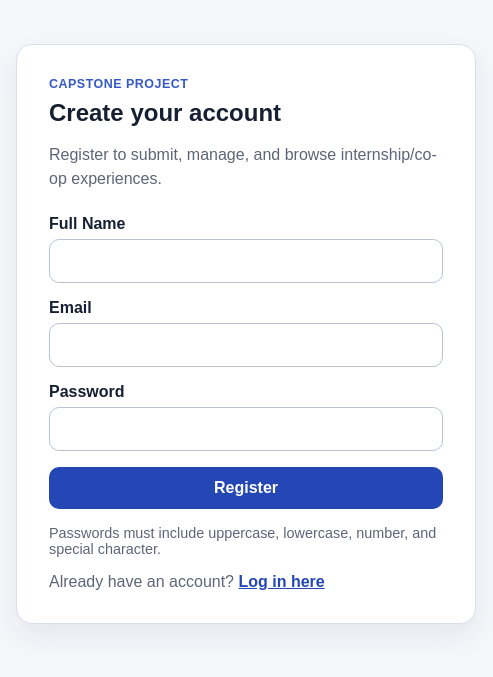
RegisterPage › shows registration errors inline instead of an alert
Type "Student One" into the field labelled "Full Name" at point(246, 261), box [49, 239, 443, 283]
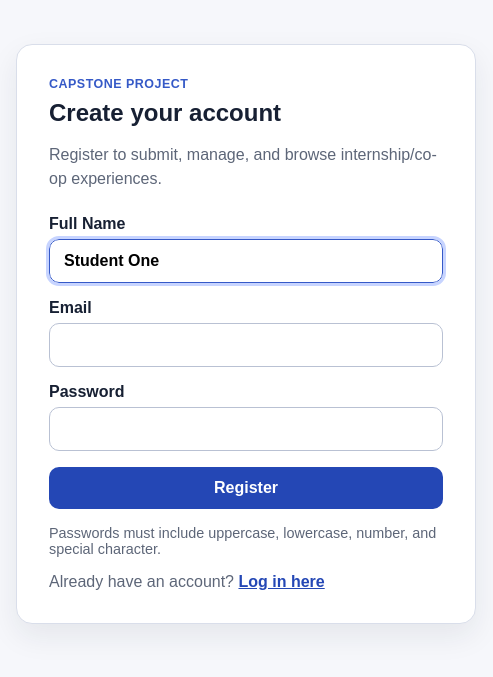
Type "student1@test.com" into the field labelled "Email" at point(246, 345), box [49, 323, 443, 367]
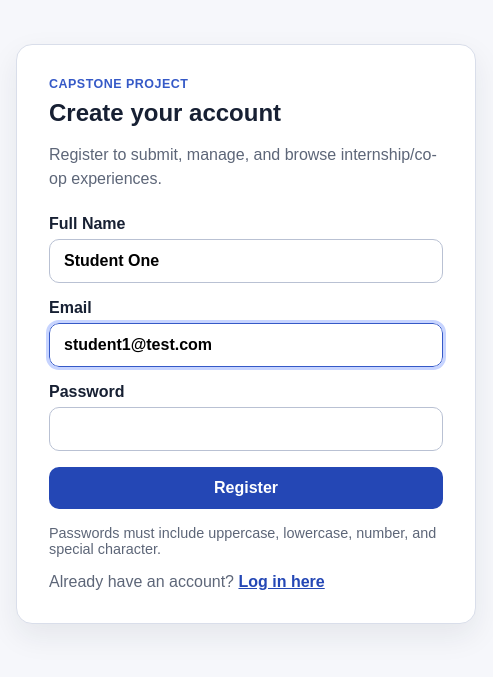
Type "P@ssw0rd123" into the password field labelled "Password" at point(246, 429), box [49, 407, 443, 451]
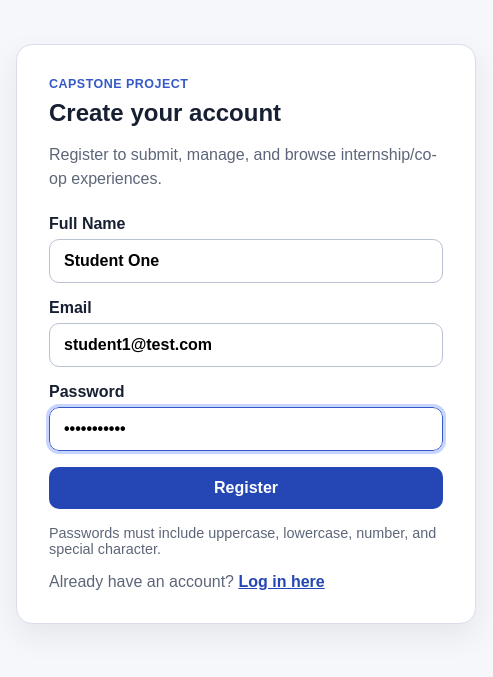
Click the button "Register" at point(246, 488), box [49, 467, 443, 509]
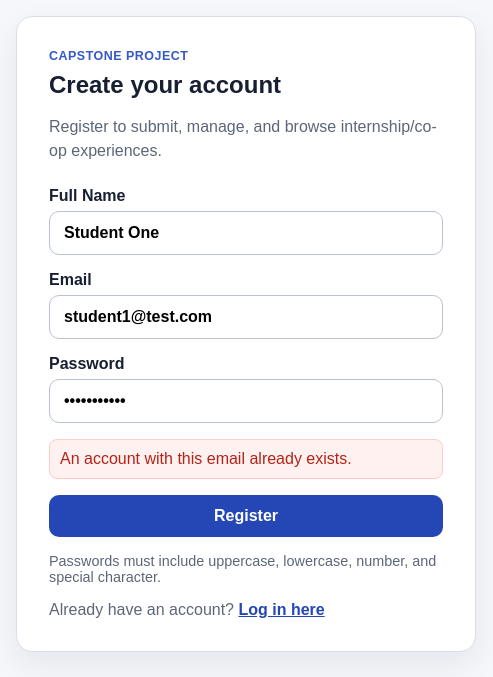
Check: the message reads "An account with this email already exists.", box [60, 450, 352, 467]
